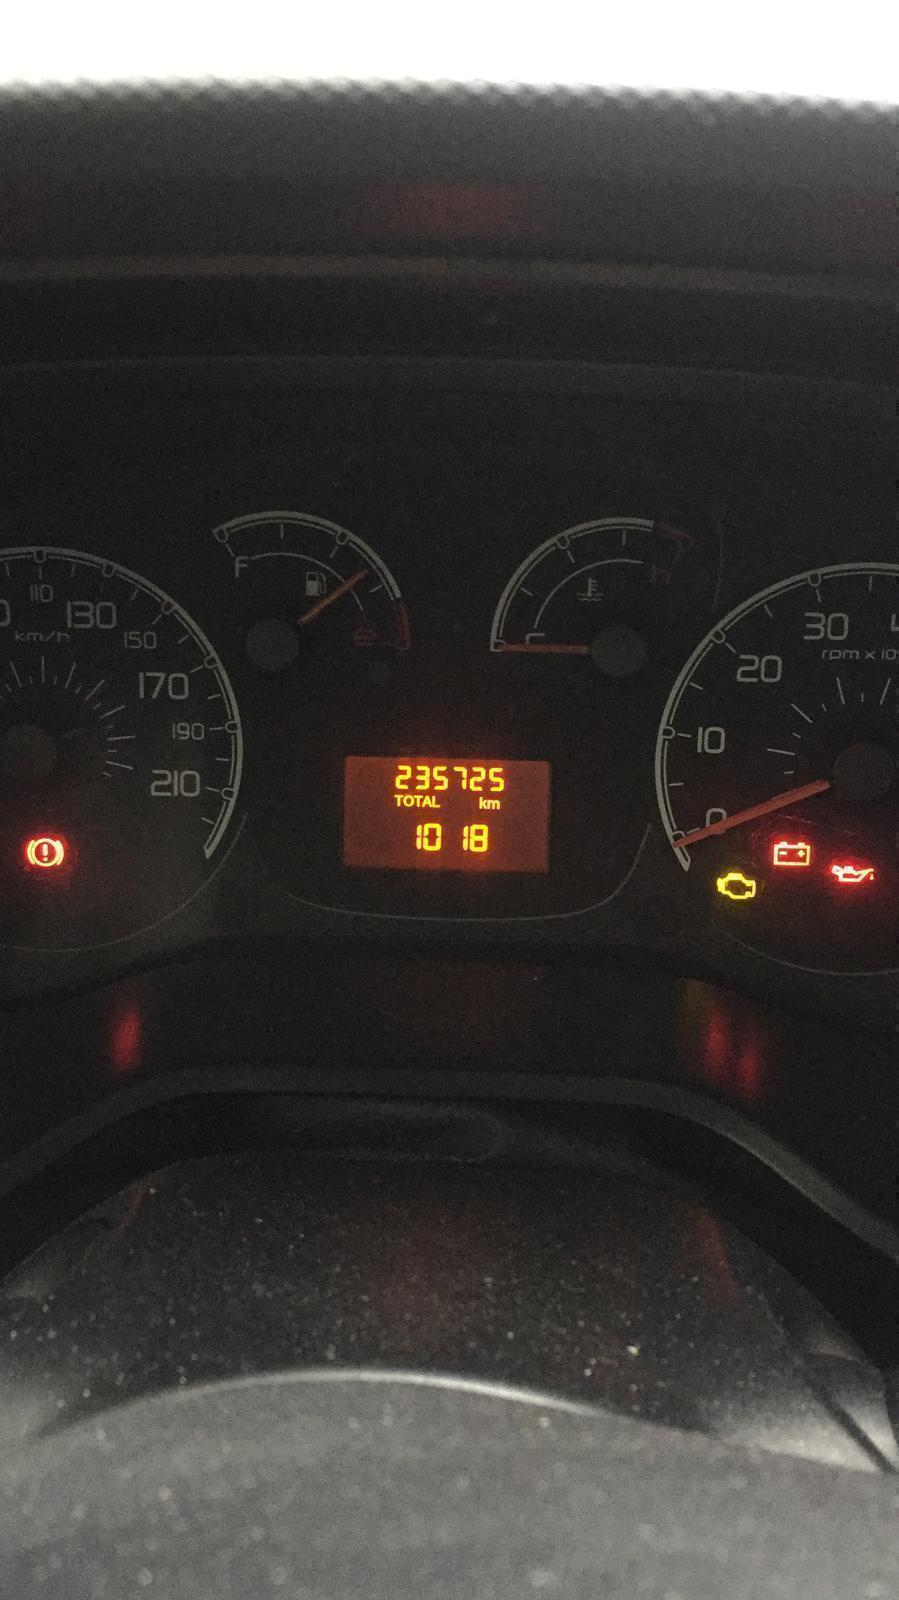0: (422, 822, 442, 851)
1: (460, 824, 469, 851), (414, 823, 422, 851)
2: (395, 764, 411, 790), (469, 766, 485, 791)
3: (414, 765, 430, 789)
5: (432, 765, 449, 790), (488, 767, 504, 792)
7: (452, 765, 468, 790)
8: (469, 823, 488, 852)
X: (402, 795, 414, 807), (487, 799, 501, 809), (431, 795, 441, 808), (478, 795, 487, 809), (392, 795, 403, 805), (421, 795, 431, 807), (413, 795, 423, 807)
odometer: (341, 754, 552, 877)
